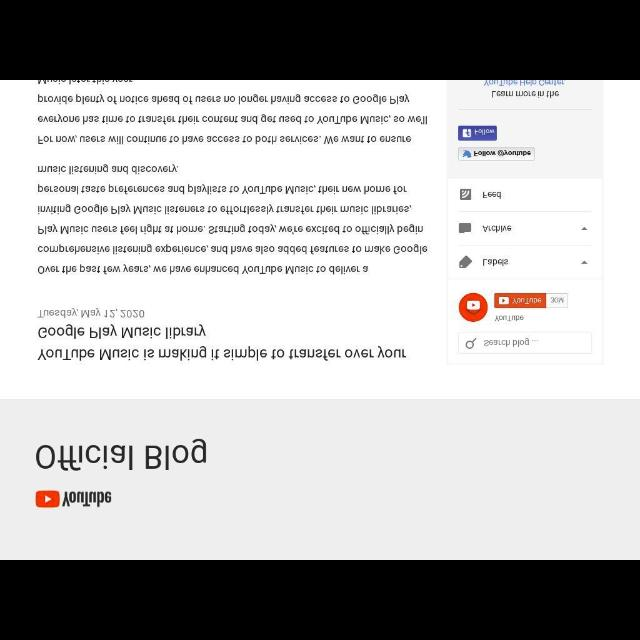button: (458, 292, 488, 322)
icon: (458, 256, 472, 268), (458, 223, 472, 233), (461, 190, 472, 200), (465, 339, 475, 349), (468, 301, 479, 309), (498, 296, 508, 304), (462, 150, 472, 158), (464, 128, 472, 138), (580, 260, 588, 266), (582, 226, 588, 230)
image: (36, 488, 112, 508)
input: (460, 334, 592, 352)
spinner: (448, 212, 602, 248), (450, 246, 602, 278)
text: (38, 163, 428, 275), (36, 81, 426, 145), (38, 326, 406, 362), (36, 438, 208, 470), (483, 82, 567, 98), (38, 306, 144, 318), (474, 148, 532, 158), (484, 338, 530, 348), (482, 222, 512, 232), (512, 296, 542, 306), (481, 256, 509, 266), (494, 314, 524, 322), (481, 189, 501, 199), (474, 128, 496, 134), (552, 296, 564, 304)
textbutton: (460, 148, 534, 162), (459, 126, 497, 140)
